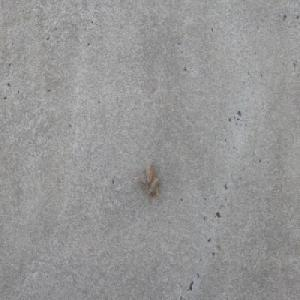Rock: (136, 159, 159, 198)
